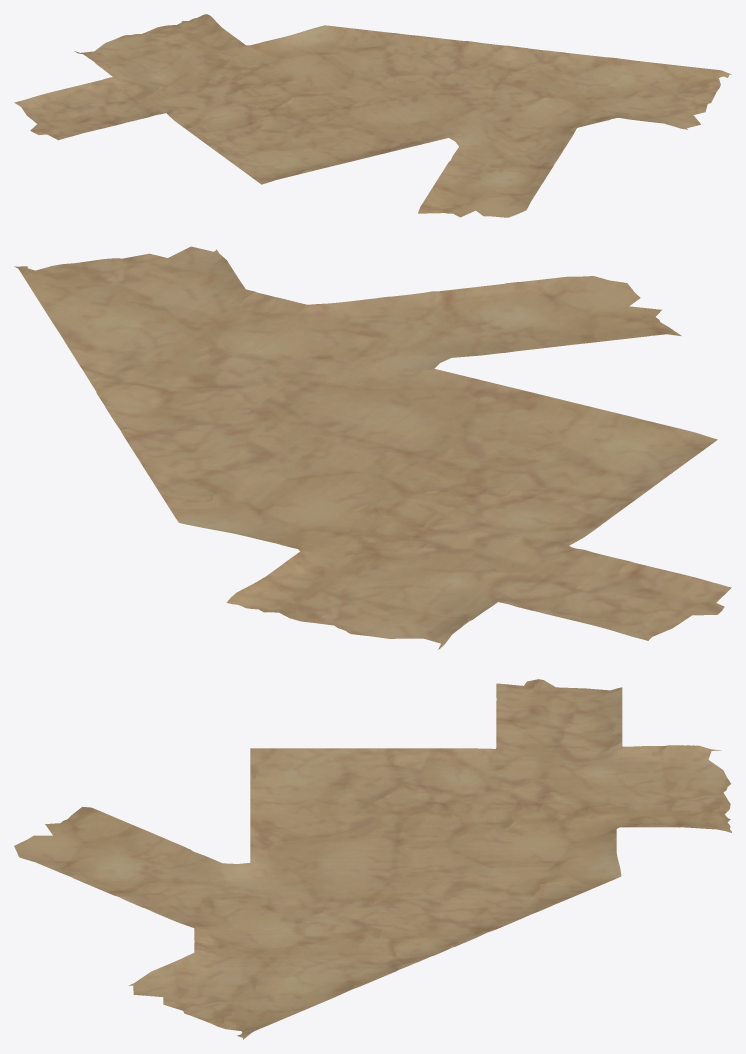
The model's file is SM_ENV_LKNVLD_Ground_Left_ground_01.FBX.
3 renders of one model, top to bottom at view 1: azimuth 30°, elevation 25°; view 2: azimuth 150°, elevation 25°; view 3: azimuth 270°, elevation 25°, orthographic. The views are drawn at different scales.
Parts seen in each view (by area): view 1: SM_ENV_LKNVLD_Ground_Left_ground_01; view 2: SM_ENV_LKNVLD_Ground_Left_ground_01; view 3: SM_ENV_LKNVLD_Ground_Left_ground_01.
Boxes of the visible parts, x1,y1,x2,y2 form: SM_ENV_LKNVLD_Ground_Left_ground_01: [14, 14, 731, 217]; SM_ENV_LKNVLD_Ground_Left_ground_01: [14, 246, 731, 649]; SM_ENV_LKNVLD_Ground_Left_ground_01: [14, 679, 731, 1039].
Bounding box in the file's own units: 2795 × 21.39 × 2350.
